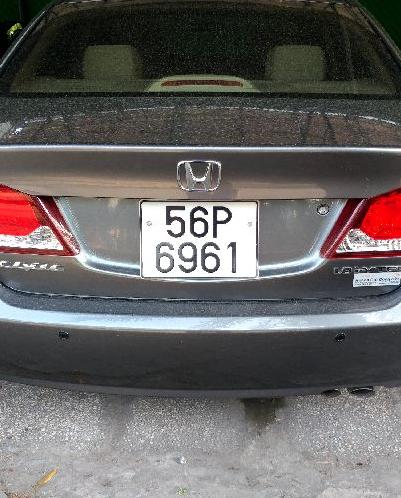Plate-iWeP: (141, 197, 258, 280)
